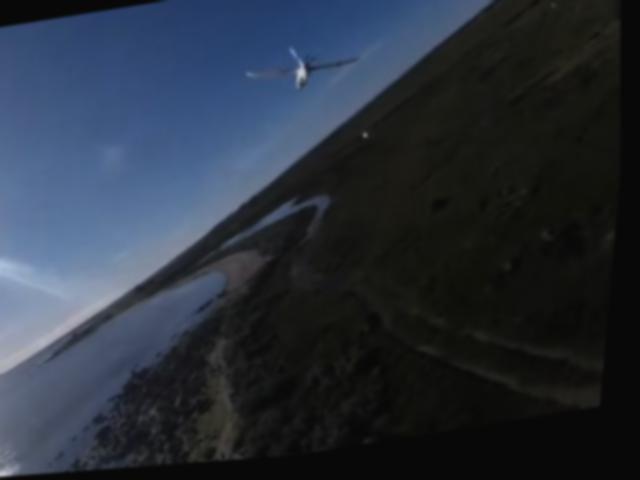uav: (238, 39, 362, 103)
